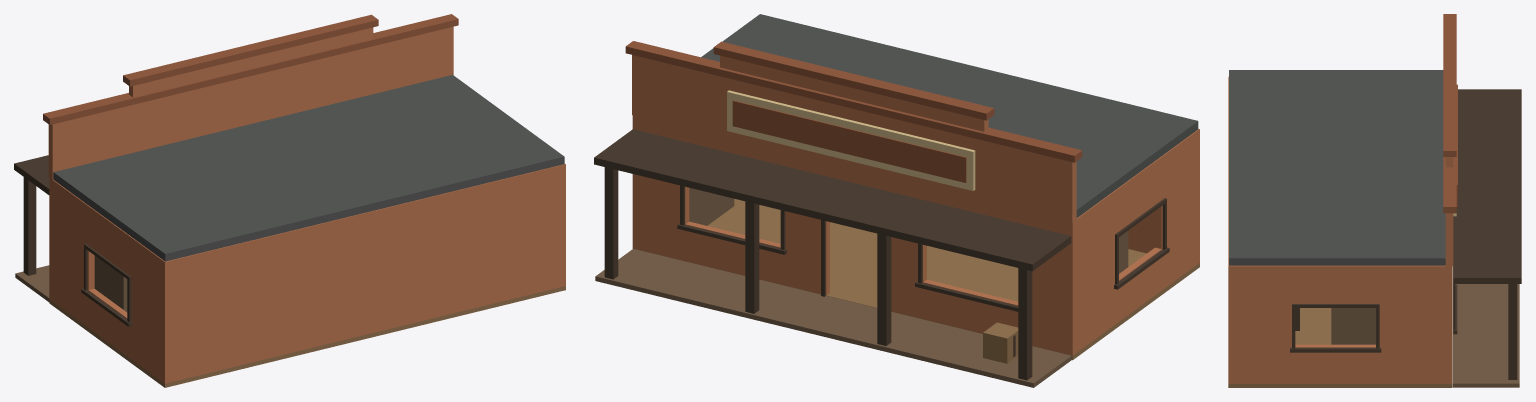
File: desert_store.glb
The picture shows the model from 3 angles, left to right: view 1: azimuth 30°, elevation 25°; view 2: azimuth 150°, elevation 25°; view 3: azimuth 270°, elevation 25°; orthographic projection. The views are drawn at different scales.
Parts seen in each view (by area): view 1: desert_store; view 2: desert_store; view 3: desert_store.
Part boxes in pixels (bbox=[...]): desert_store: bbox=[14, 14, 565, 387]; desert_store: bbox=[594, 14, 1199, 387]; desert_store: bbox=[1228, 14, 1521, 387].
Size of what is drawn, in the model's own units: 10.22 by 4.95 by 6.55.
2 materials, 2 textured.
